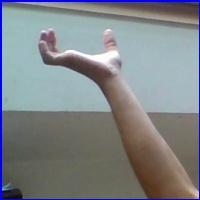space: (32, 22, 128, 83)
